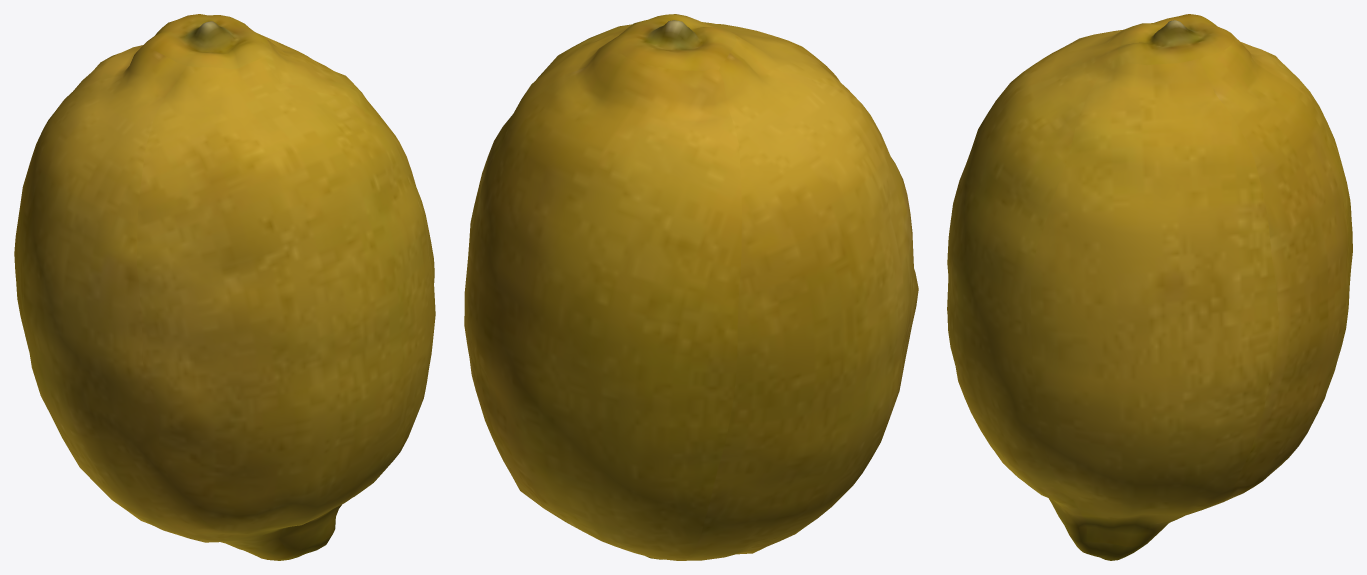
File: lemon.glb
3 renders of one model, left to right at view 1: azimuth 30°, elevation 25°; view 2: azimuth 150°, elevation 25°; view 3: azimuth 270°, elevation 25°, orthographic. The views are drawn at different scales.
Parts seen in each view (by area): view 1: lemon; view 2: lemon; view 3: lemon.
Boxes of the visible parts, x1,y1,x2,y2 form: lemon: [14, 14, 435, 560]; lemon: [464, 14, 918, 560]; lemon: [947, 14, 1352, 560].
Bounding box in the file's own units: 0.0687 × 0.0954 × 0.0683.
1 material, 1 textured.
